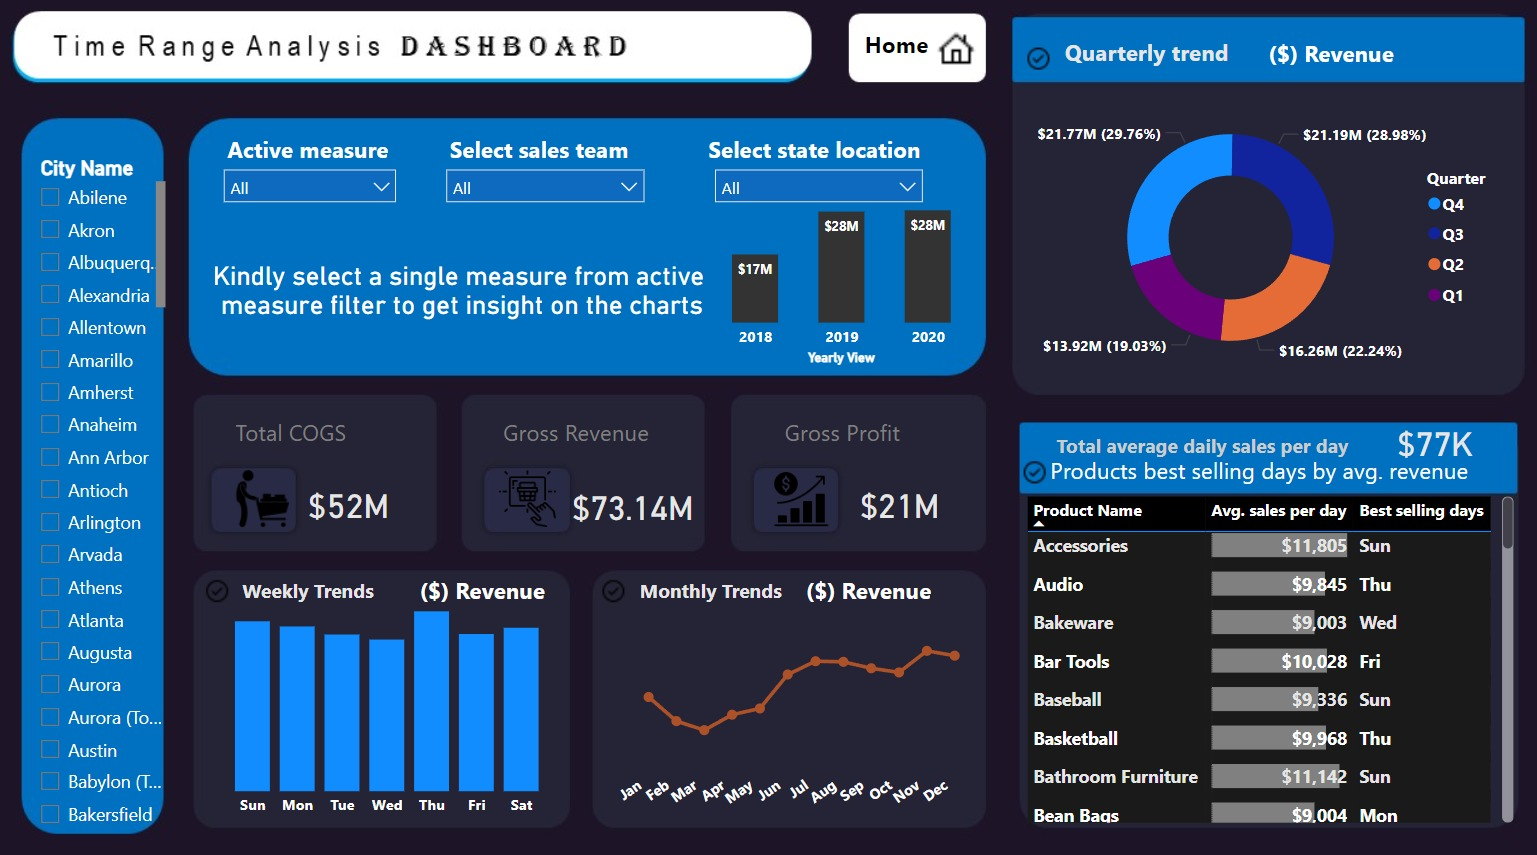

The dashboard page shown, as its layout file describes it:
{"tool":"powerbi","page":{"name":"Page 1","canvas":[1280,720],"ordinal":0},"visuals":[{"type":"tableEx","fields":{"Values":["Dim_Products.Product Name","Best Selling Days.Avg. sales per day","Best Selling Days.Best selling days"]},"box":[847.7,415.1,415.1,281.4],"z":0},{"type":"textbox","box":[867.4,360.5,264,32.6],"z":1000},{"type":"card","fields":{"Values":["Best Selling Days.Avg. sales per day"]},"box":[1153.5,357,79.1,36],"z":2000},{"type":"textbox","box":[847.7,380.2,397.7,34.9],"z":3000},{"type":"textbox","box":[165.1,347.7,153.5,34.9],"z":4000},{"type":"textbox","box":[402.3,347.7,153.5,34.9],"z":5000},{"type":"textbox","box":[623.3,347.7,153.5,34.9],"z":6000},{"type":"image","box":[165.1,393,107,57],"z":7000},{"type":"image","box":[374.4,393,129.1,57],"z":8000},{"type":"image","box":[603.5,393,125.6,58.1],"z":9000},{"type":"card","fields":{"Values":["First Measures.COGS"]},"box":[241.9,403.5,95.3,46.5],"z":10000},{"type":"card","fields":{"Values":["First Measures.Gross Profit"]},"box":[700,403.5,95.3,46.5],"z":11000},{"type":"card","fields":{"Values":["First Measures.Total Revenue"]},"box":[459.3,405.8,133.7,45.3],"z":12000},{"type":"slicer","fields":{"Values":["Change measures.Value"]},"box":[175.6,137.2,164,60.5],"z":13000},{"type":"card","fields":{"Values":["Change measures.Info"]},"box":[129.1,195.3,510.5,104.7],"z":14000},{"type":"textbox","box":[174.4,112.8,162.8,36],"z":15000},{"type":"lineChart","fields":{"Y":["First Measures.Total Revenue"],"Category":["Calendar.Month"]},"box":[508.1,527.9,300,168.6],"z":16000},{"type":"clusteredColumnChart","fields":{"Y":["First Measures.Total Revenue"],"Category":["Calendar.Weekday"]},"box":[175.6,494.2,293,200],"z":17000},{"type":"donutChart","fields":{"Y":["First Measures.Total Revenue"],"Category":["Calendar.Quarter"]},"box":[855.8,81.4,407,246.5],"z":18000},{"type":"slicer","fields":{"Values":["Dim_Sales Teams.Sales Team"]},"box":[360.5,137.2,184.9,45.3],"z":19000},{"type":"clusteredColumnChart","fields":{"Y":["First Measures.Total Revenue"],"Category":["Calendar.Year"]},"box":[603.5,148.8,191.9,166.3],"z":20000},{"type":"textbox","box":[880.2,32.6,179.1,47.7],"z":21000},{"type":"textbox","box":[1050,33.7,164,47.7],"z":22000},{"type":"textbox","box":[368.6,112.8,181.4,36],"z":23000},{"type":"slicer","fields":{"Values":["Dim_Regions.State"]},"box":[583.7,137.2,193,67.4],"z":24000},{"type":"textbox","box":[714,25.6,164,47.7],"z":25000},{"type":"textbox","box":[583.7,112.8,224.4,36],"z":26000},{"type":"textbox","box":[344.2,480.2,164,47.7],"z":27000},{"type":"textbox","box":[665.1,480.2,164,47.7],"z":28000},{"type":"textbox","box":[196.5,481.4,143,34.9],"z":29000},{"type":"textbox","box":[526.7,481.4,164,47.7],"z":30000},{"type":"image","box":[165.1,481.4,32.6,34.9],"z":31000},{"type":"image","box":[494.2,481.4,32.6,34.9],"z":32000},{"type":"image","box":[847.7,38.4,32.6,34.9],"z":33000},{"type":"image","box":[845.4,382.6,32.6,34.9],"z":34000},{"type":"image","box":[774.4,23.3,41.9,50],"z":35000},{"type":"slicer","fields":{"Values":["Dim_StoreLocations.City Name"]},"box":[20.9,131.4,122.1,565.1],"z":36000}]}

Visuals, with their boxes in screenshot pixels (x1, y1, x2, y2), scaled from the page's 1280x720 canvas onto the 1537x855 screenshot:
tableEx - Dim_Products.Product Name x Best Selling Days.Avg. sales per day: <region>1018, 493, 1516, 827</region>
textbox: <region>1042, 428, 1359, 467</region>
card - Best Selling Days.Avg. sales per day: <region>1385, 424, 1480, 467</region>
textbox: <region>1018, 451, 1495, 493</region>
textbox: <region>198, 413, 383, 454</region>
textbox: <region>483, 413, 667, 454</region>
textbox: <region>748, 413, 933, 454</region>
image: <region>198, 467, 327, 534</region>
image: <region>450, 467, 605, 534</region>
image: <region>725, 467, 875, 536</region>
card - First Measures.COGS: <region>290, 479, 405, 534</region>
card - First Measures.Gross Profit: <region>841, 479, 955, 534</region>
card - First Measures.Total Revenue: <region>552, 482, 712, 536</region>
slicer - Change measures.Value: <region>211, 163, 408, 235</region>
card - Change measures.Info: <region>155, 232, 768, 356</region>
textbox: <region>209, 134, 405, 177</region>
lineChart - First Measures.Total Revenue x Calendar.Month: <region>610, 627, 970, 827</region>
clusteredColumnChart - First Measures.Total Revenue x Calendar.Weekday: <region>211, 587, 563, 824</region>
donutChart - First Measures.Total Revenue x Calendar.Quarter: <region>1028, 97, 1516, 389</region>
slicer - Dim_Sales Teams.Sales Team: <region>433, 163, 655, 217</region>
clusteredColumnChart - First Measures.Total Revenue x Calendar.Year: <region>725, 177, 955, 374</region>
textbox: <region>1057, 39, 1272, 95</region>
textbox: <region>1261, 40, 1458, 97</region>
textbox: <region>443, 134, 660, 177</region>
slicer - Dim_Regions.State: <region>701, 163, 933, 243</region>
textbox: <region>857, 30, 1054, 87</region>
textbox: <region>701, 134, 970, 177</region>
textbox: <region>413, 570, 610, 627</region>
textbox: <region>799, 570, 996, 627</region>
textbox: <region>236, 572, 408, 613</region>
textbox: <region>632, 572, 829, 628</region>
image: <region>198, 572, 237, 613</region>
image: <region>593, 572, 633, 613</region>
image: <region>1018, 46, 1057, 87</region>
image: <region>1015, 454, 1054, 496</region>
image: <region>930, 28, 980, 87</region>
slicer - Dim_StoreLocations.City Name: <region>25, 156, 172, 827</region>
